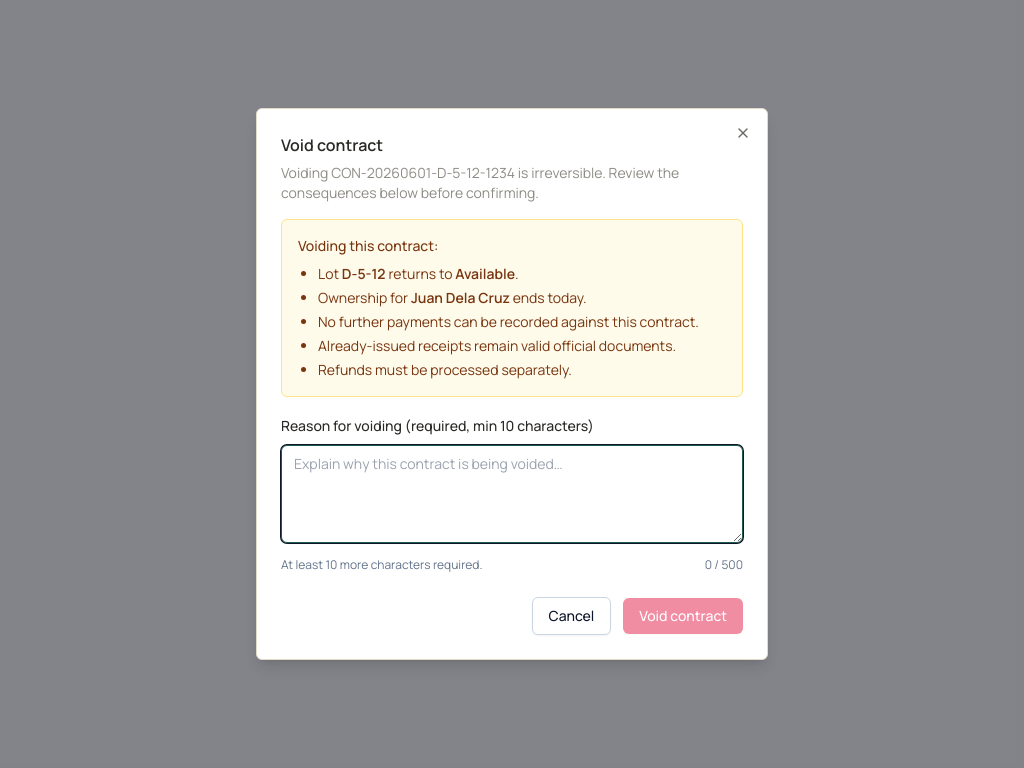
VoidContractDialog › disables the confirm button until the reason is at least 10 chars
Expected: the button with test id "void-contract-confirm" is disabled, [623,598,743,634]
In the text box with test id "void-contract-reason": (512, 494) [281,445,743,543], type "too short"
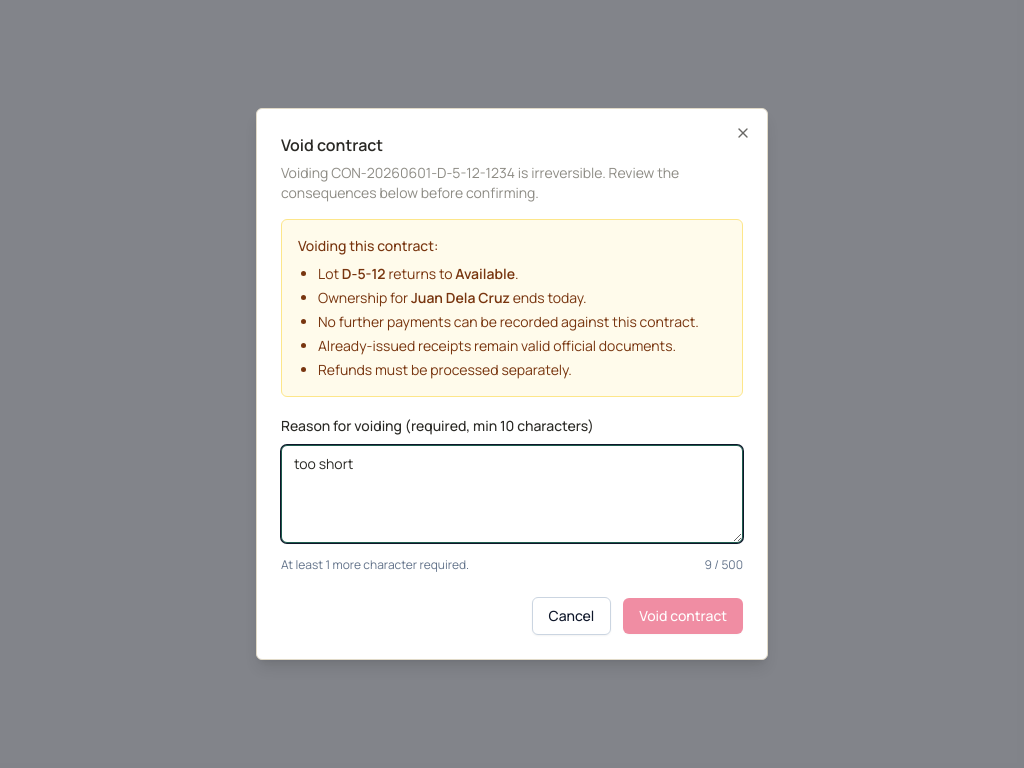
Expected: the button with test id "void-contract-confirm" is disabled, [623,598,743,634]
In the text box with test id "void-contract-reason": (512, 494) [281,445,743,543], type " — yet more text"
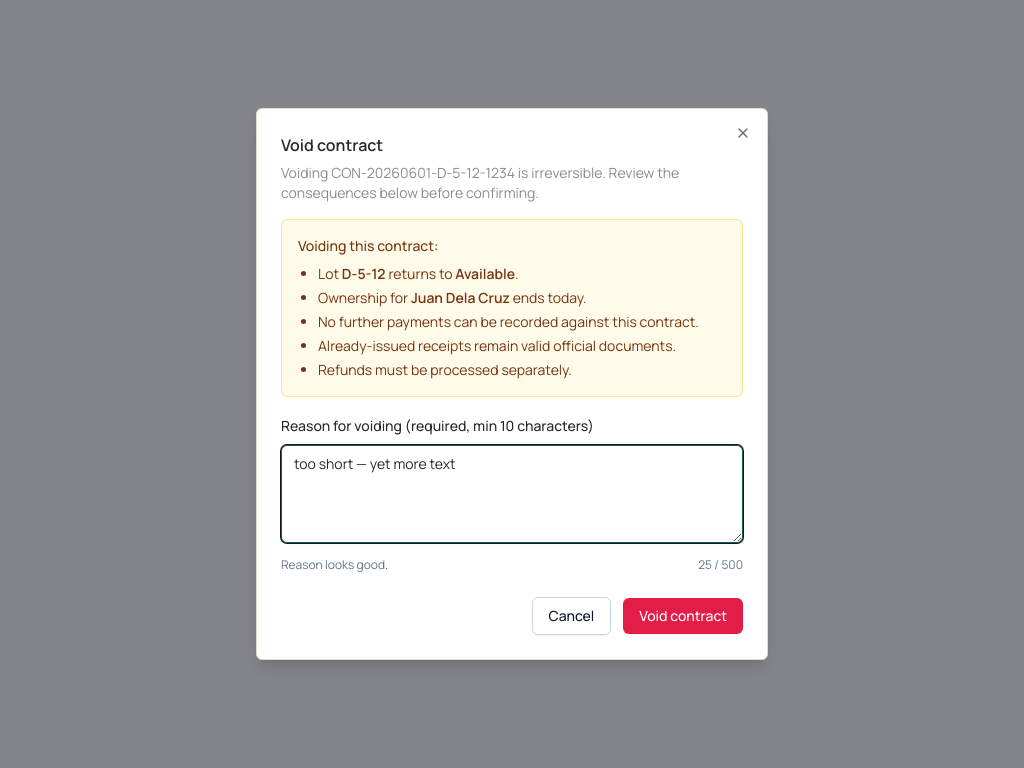
Now the button with test id "void-contract-confirm" is enabled, box [623,598,743,634]
